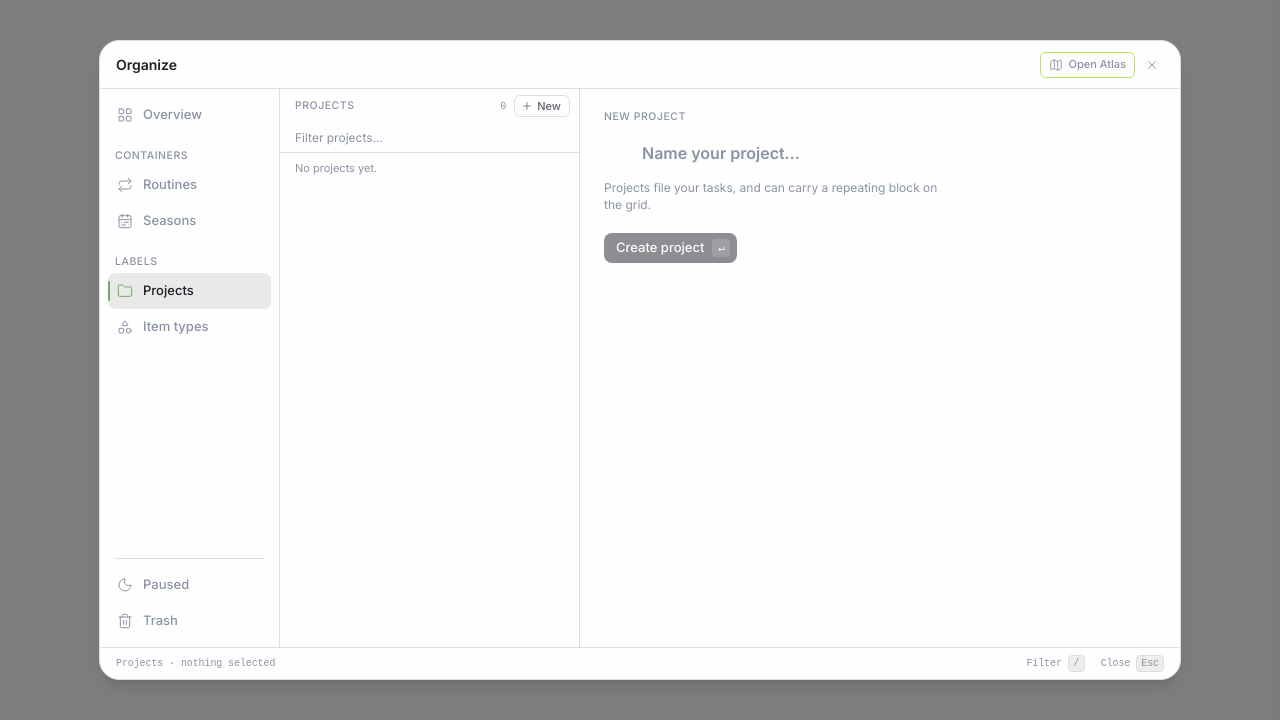
Test: creating a project whose name the Trash still holds › still refuses it when the section is empty and the form auto-opened
The width and height of the screenshot is (1280, 720).
Type "Ghost" into the field with test id "project-new-name".
click(899, 153); type("Ghost")  # box x1=638 y1=140 x2=1160 y2=166
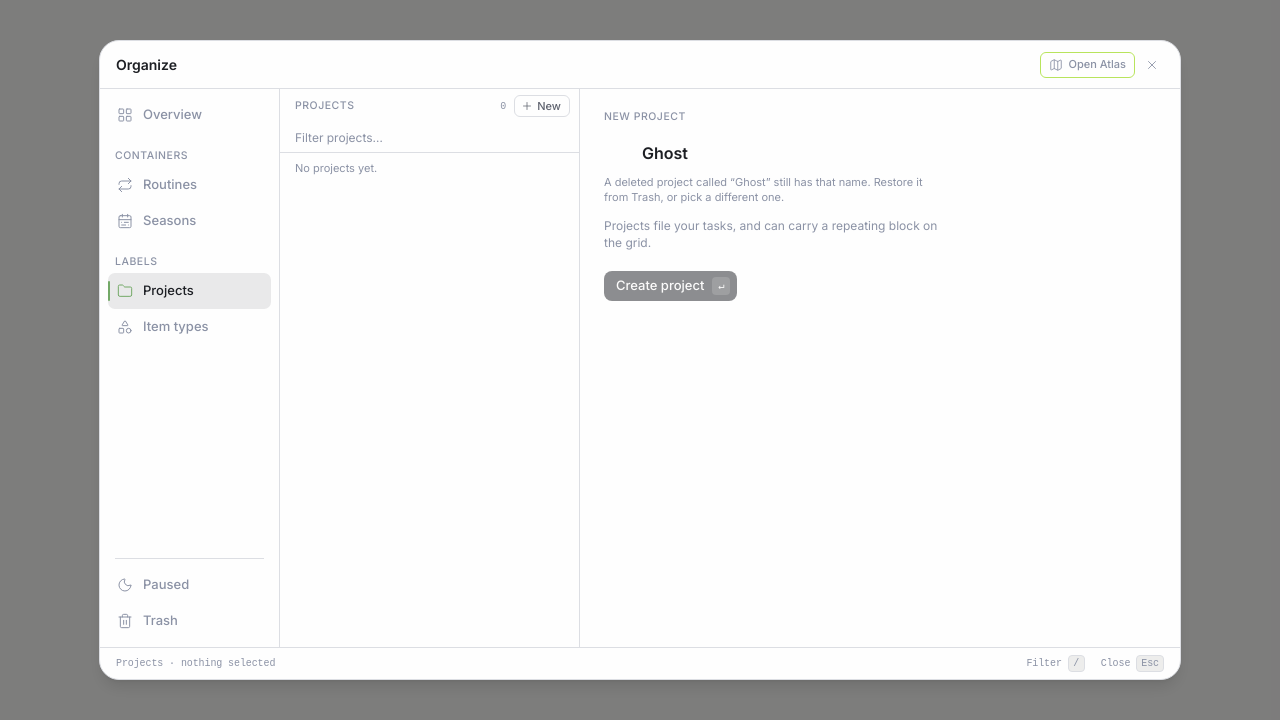
Expected: the button with test id "project-add" is disabled, x1=604 y1=271 x2=737 y2=301
Expected: the text with test id "project-new-problem" shows "Trash", x1=604 y1=175 x2=923 y2=204
